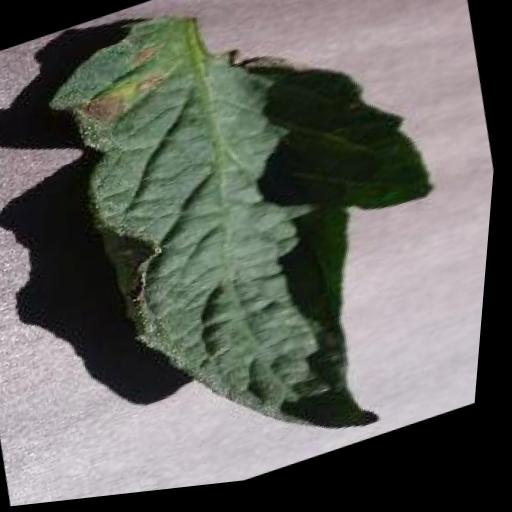Early Blight: (14, 0, 501, 508)
